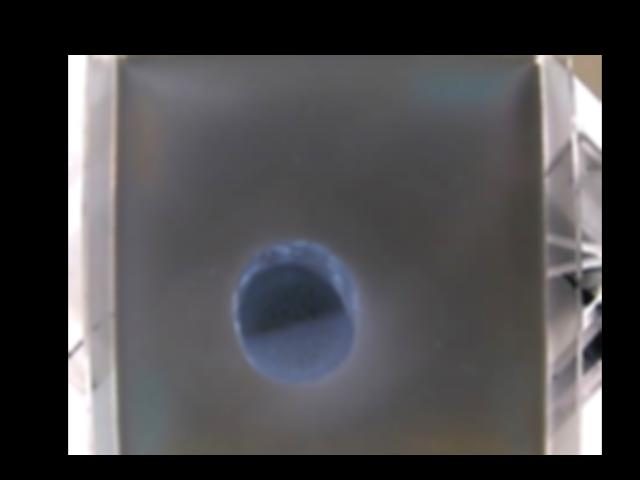Mooli: (232, 238, 355, 377)
